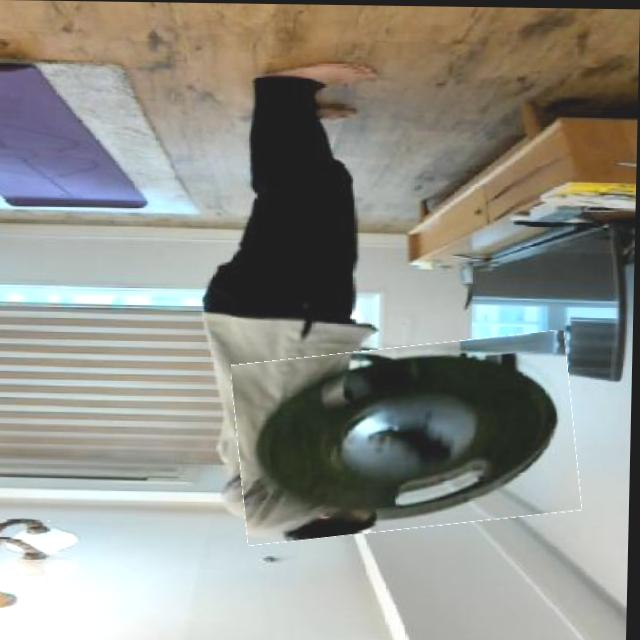barbell: (235, 335, 583, 540)
